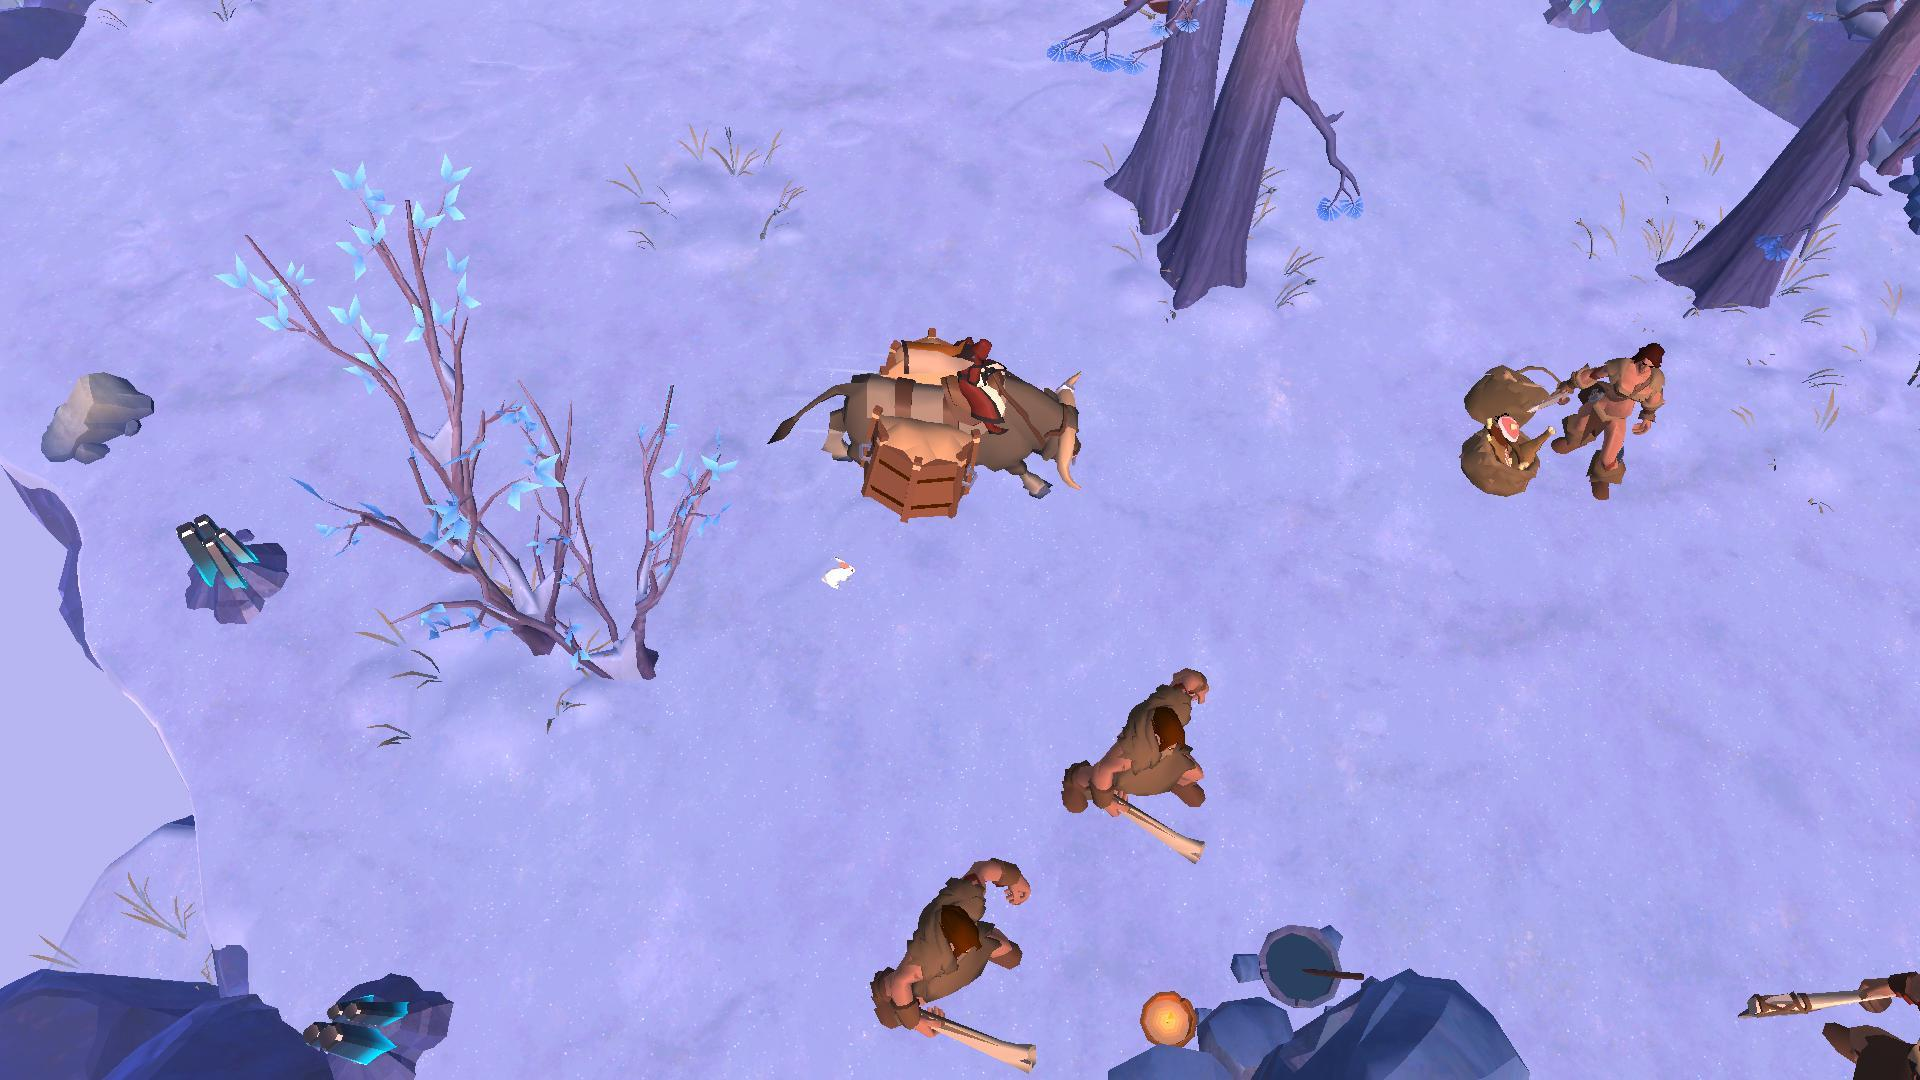enemy_factionKeeper: (848, 857, 1052, 1064), (1054, 683, 1228, 837), (1545, 336, 1692, 488)
ore_t4: (297, 985, 405, 1069), (174, 505, 257, 588)
